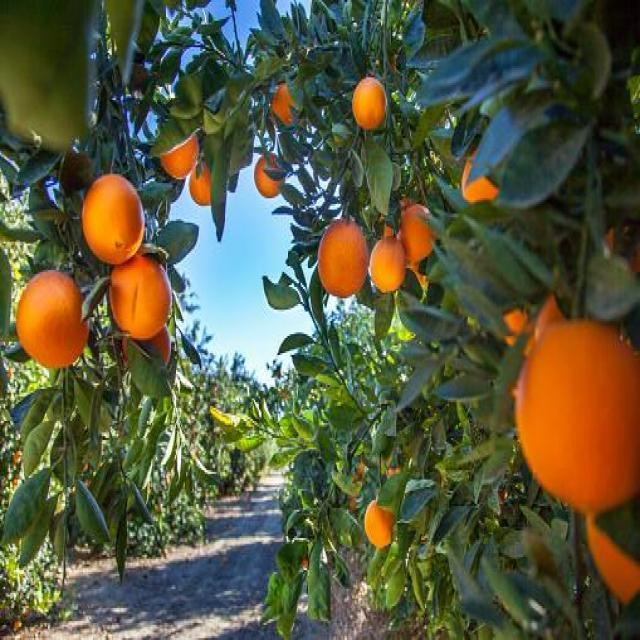Jeruk Sudah Matang: (514, 320, 640, 516), (16, 268, 86, 366), (110, 245, 173, 342), (586, 510, 640, 616), (82, 176, 144, 264), (318, 218, 367, 298), (372, 230, 409, 296), (401, 200, 439, 264), (158, 122, 198, 180), (465, 145, 499, 206), (188, 158, 224, 206), (353, 78, 386, 130), (364, 500, 396, 550), (256, 149, 286, 200), (272, 81, 300, 125)
